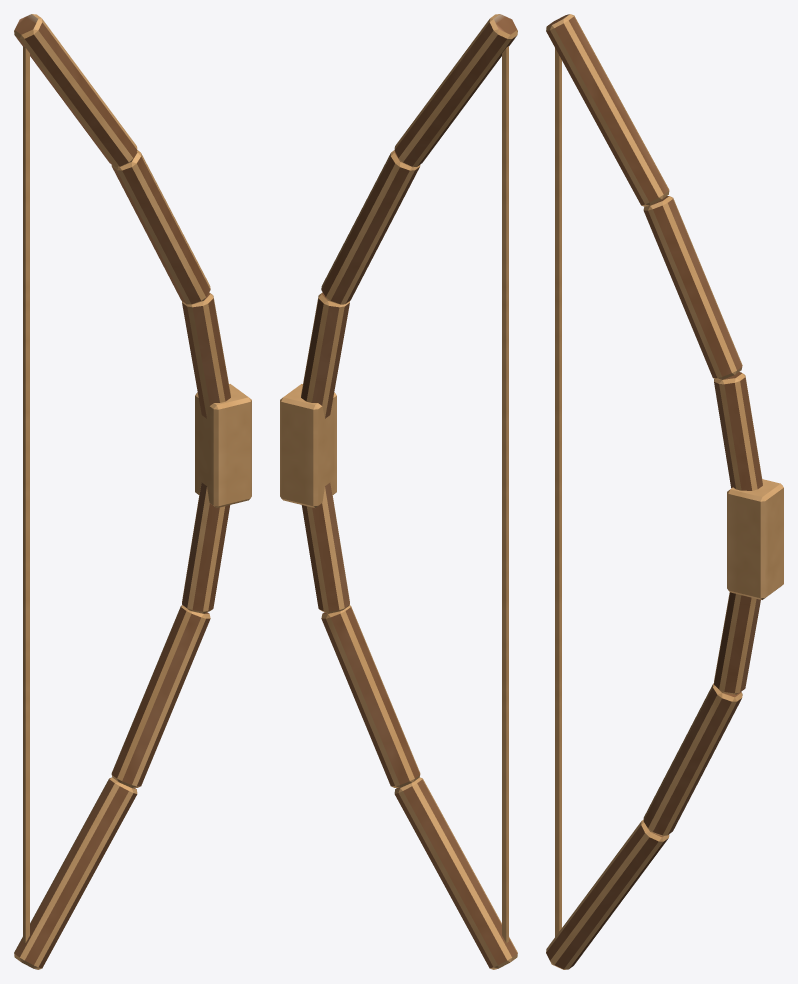
The model's file is sm_tool_bow.glb.
3 views of the same model, side by side, from view 1: azimuth 30°, elevation 25°; view 2: azimuth 150°, elevation 25°; view 3: azimuth 330°, elevation 25° (orthographic).
Parts seen in each view (by area): view 1: sm_tool_bow; view 2: sm_tool_bow; view 3: sm_tool_bow.
Boxes of the visible parts, x1,y1,x2,y2 form: sm_tool_bow: (14, 14, 251, 969); sm_tool_bow: (280, 14, 517, 969); sm_tool_bow: (546, 14, 783, 969).
Size of the model in its own units: 0.2061 by 0.8302 by 0.035.
1 material, 1 textured.
